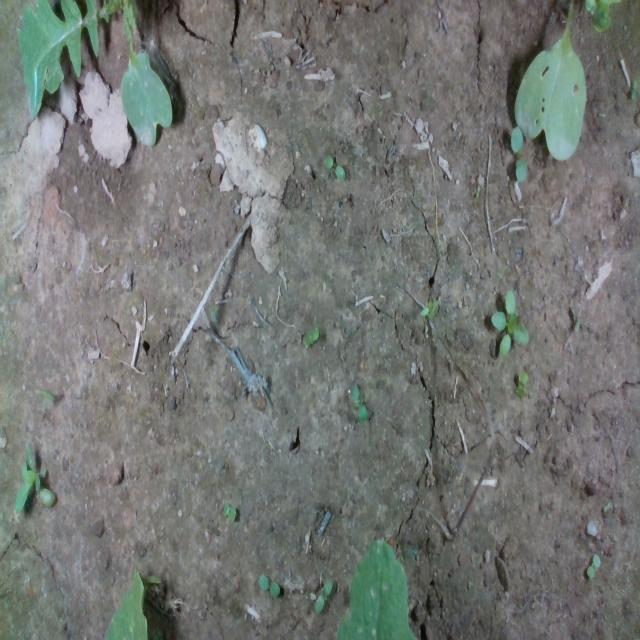weed: (350, 380, 368, 420), (314, 578, 332, 612), (323, 153, 345, 180), (258, 572, 280, 598), (514, 368, 528, 399), (586, 552, 600, 580), (303, 327, 319, 346), (222, 502, 236, 520), (602, 500, 611, 514)
